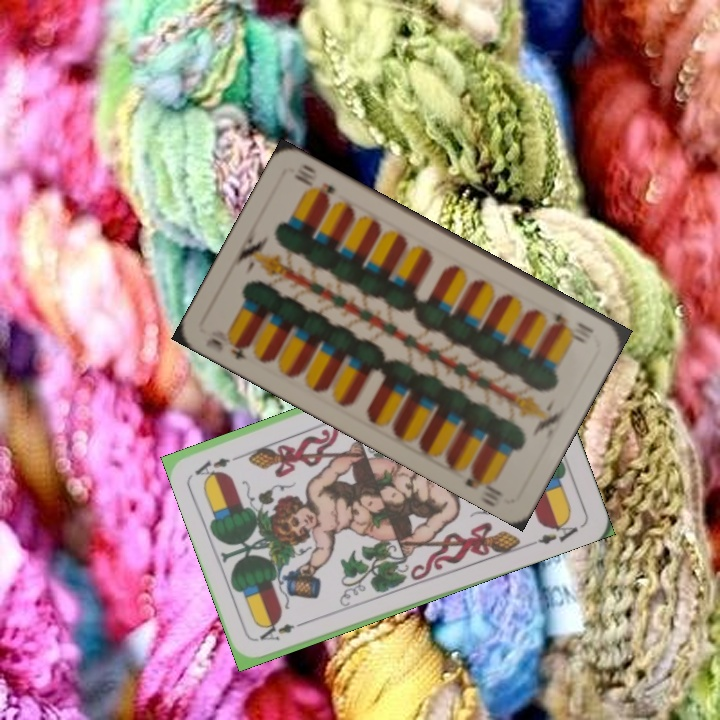E10: (550, 309, 596, 344), (201, 334, 253, 363)
EA: (255, 619, 297, 644)
